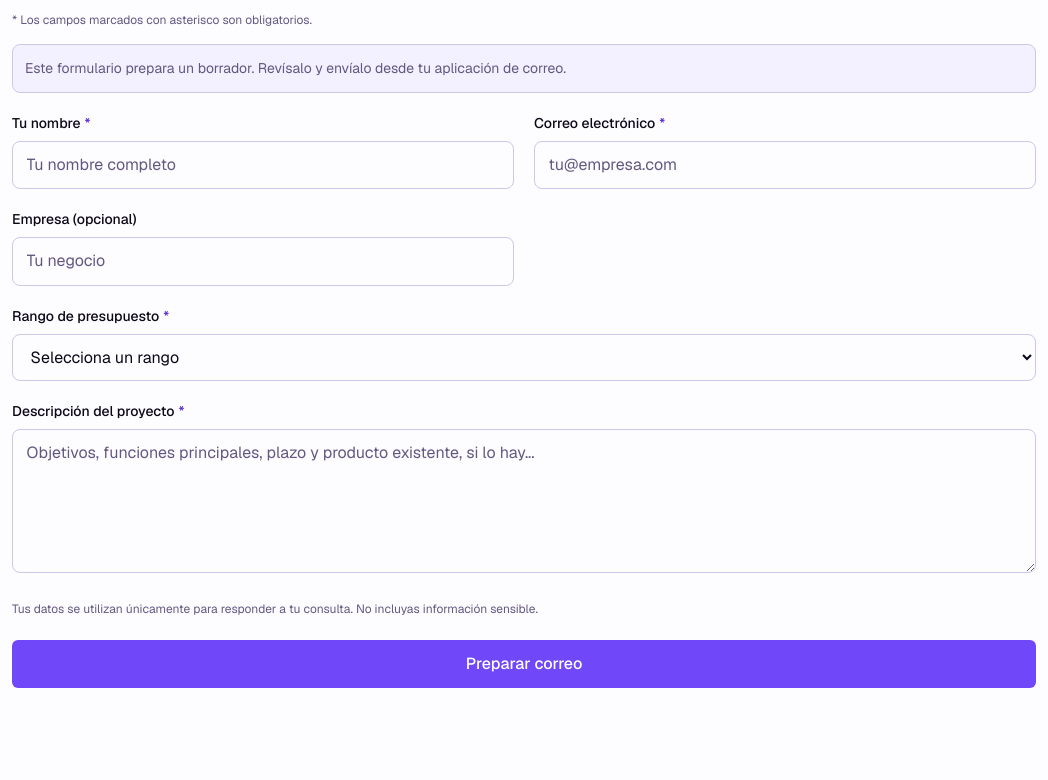
Test: ProjectForm › translates validation messages
This screenshot has width=1048, height=780.
Click the button "Preparar correo": (524, 664) [12,640,1036,688]
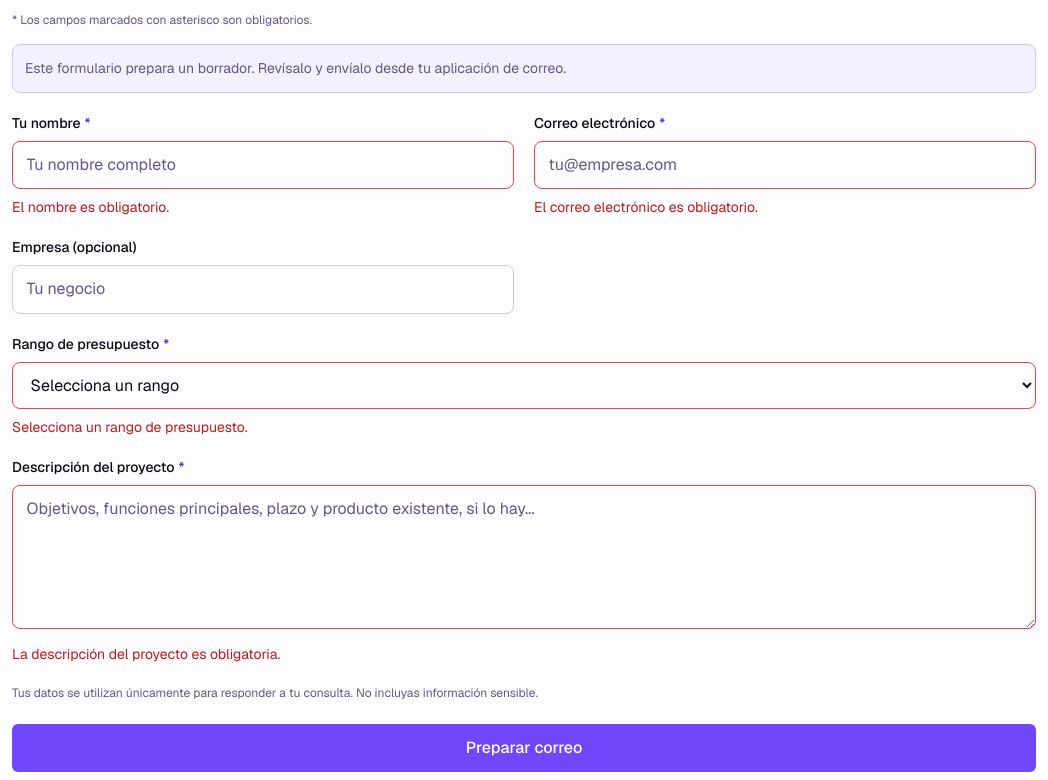
Check: the text "El nombre es obligatorio." is shown, box [12,198,169,216]
